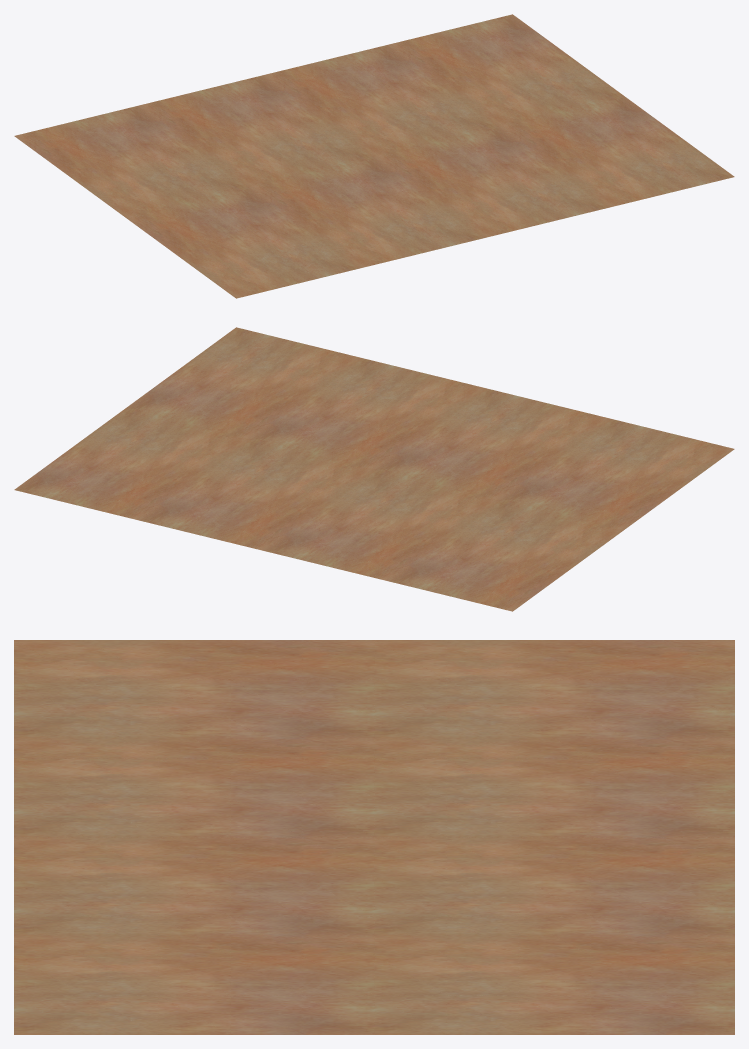
Rendered from Floor.fbx.
3 renders of one model, top to bottom at view 1: azimuth 30°, elevation 25°; view 2: azimuth 150°, elevation 25°; view 3: azimuth 270°, elevation 25°, orthographic. The views are drawn at different scales.
Parts seen in each view (by area): view 1: Floor; view 2: Floor; view 3: Floor.
Boxes of the visible parts, x1,y1,x2,y2 form: Floor: [14, 14, 734, 298]; Floor: [14, 327, 734, 611]; Floor: [14, 640, 734, 1034].
Size of the model in its own units: 1697 by 2.91e-13 by 1310.
Materials: 1 (1 with a texture image).
